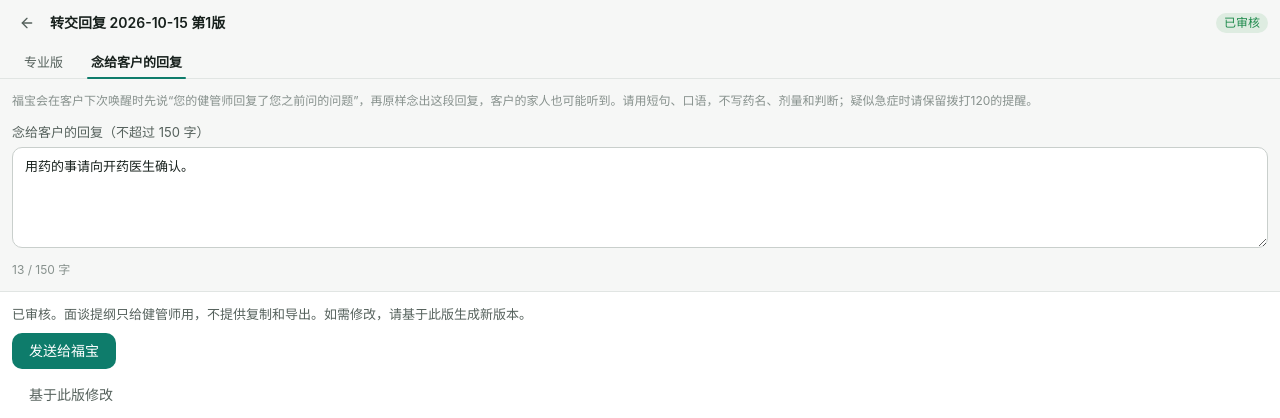
Test: /转交回复 › 已发送的显示时间；转交已关闭时提示不能再发
Click the button "发送给福宝" at (64, 351), box 12,333 -> 116,369
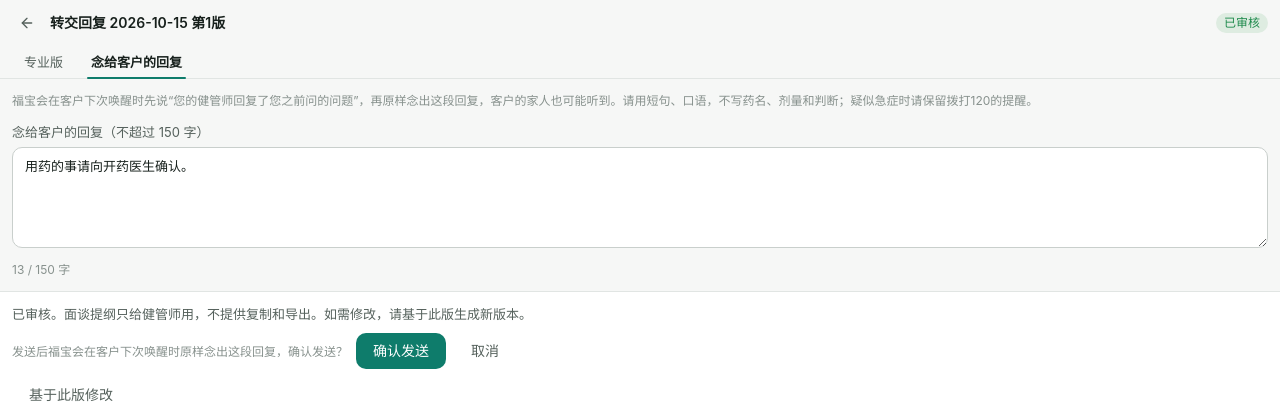
Click the button "确认发送" at (401, 351), box 356,333 -> 446,369
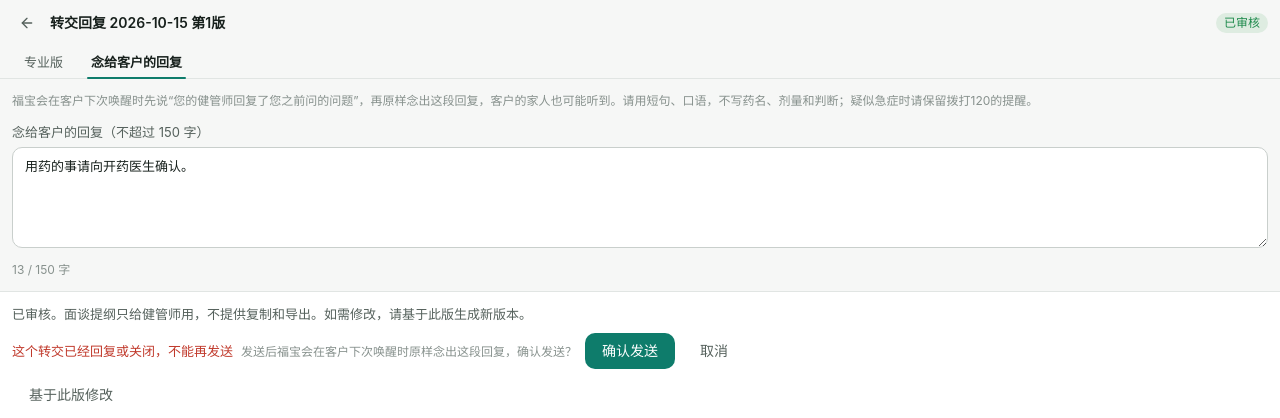
Check: the message shows "已经回复或关闭", box 12,343 -> 233,359
